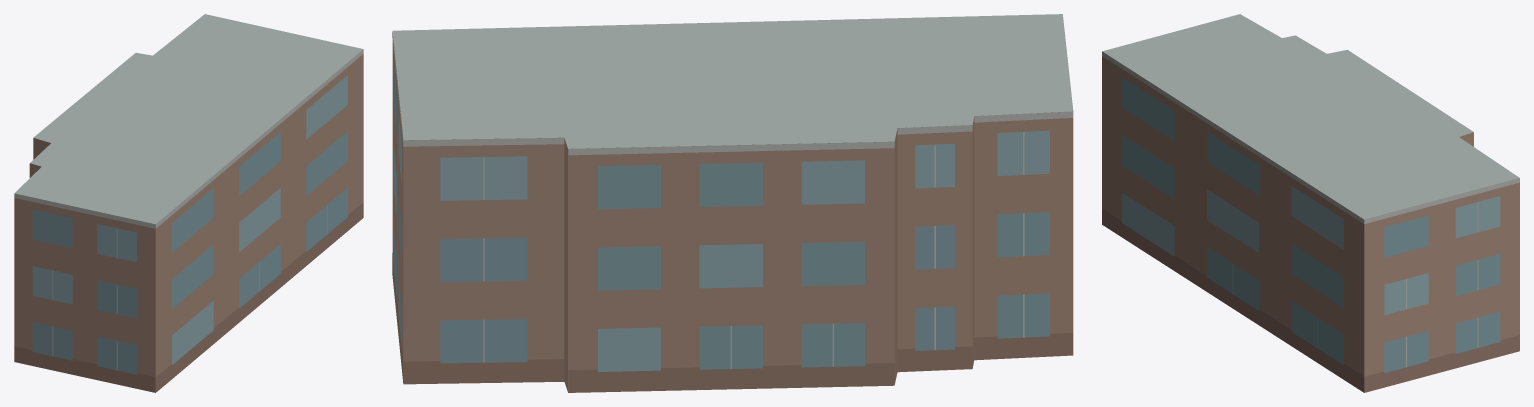
File: survey-upis-32586210.glb
The picture shows the model from 3 angles, left to right: view 1: azimuth 30°, elevation 25°; view 2: azimuth 150°, elevation 25°; view 3: azimuth 270°, elevation 25°; orthographic projection. The views are drawn at different scales.
Parts seen in each view (by area): view 1: survey-upis-32586210.tmp; view 2: survey-upis-32586210.tmp; view 3: survey-upis-32586210.tmp.
Boxes of the visible parts, left/top/right/bottom form: survey-upis-32586210.tmp: left=14, top=14, right=363, bottom=392; survey-upis-32586210.tmp: left=392, top=14, right=1073, bottom=392; survey-upis-32586210.tmp: left=1102, top=14, right=1519, bottom=392.
Bounding box in the file's own units: 23.29 × 9.15 × 20.
